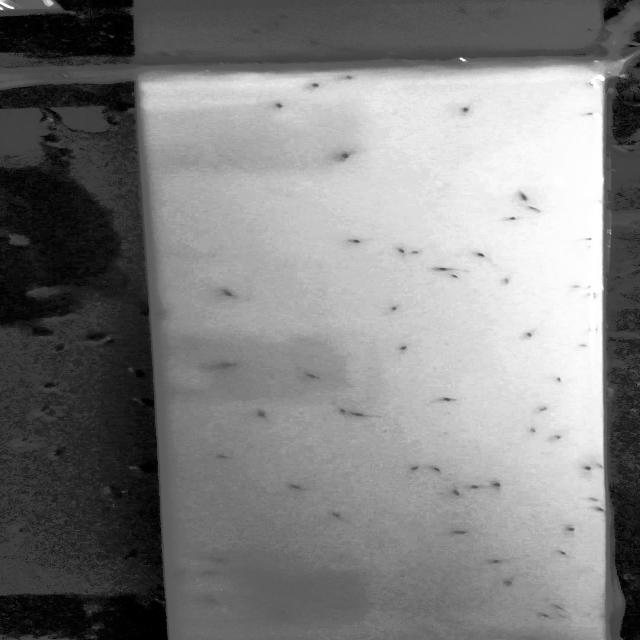shrimp: (293, 76, 330, 94), (331, 144, 359, 166), (328, 67, 362, 84), (434, 486, 474, 500), (579, 461, 604, 480), (268, 96, 294, 113), (450, 102, 480, 116), (218, 287, 246, 302), (584, 489, 608, 506), (469, 245, 492, 262), (350, 408, 375, 423), (202, 590, 220, 610), (512, 187, 533, 204), (430, 262, 455, 276), (399, 461, 424, 475), (247, 408, 275, 420), (528, 607, 552, 621), (552, 547, 576, 561), (576, 233, 600, 246), (393, 342, 417, 355), (500, 274, 519, 290), (428, 462, 449, 476), (498, 574, 519, 588), (268, 608, 297, 618), (522, 203, 548, 214), (282, 481, 308, 492), (587, 504, 613, 515), (165, 571, 191, 582), (217, 360, 242, 371), (149, 310, 171, 322), (385, 304, 407, 316), (550, 375, 574, 386), (201, 567, 225, 578), (409, 244, 425, 260), (301, 369, 322, 381), (328, 510, 349, 522), (350, 235, 370, 247), (335, 402, 350, 418), (214, 451, 234, 463), (552, 604, 572, 616), (524, 422, 540, 436), (517, 329, 534, 342), (504, 214, 524, 225), (210, 556, 232, 566), (483, 557, 507, 566), (574, 285, 590, 298), (452, 527, 468, 540), (536, 404, 553, 416), (489, 481, 507, 492), (393, 245, 408, 258), (553, 434, 569, 446), (461, 482, 482, 491), (442, 395, 460, 404), (566, 524, 579, 536), (575, 340, 587, 352), (450, 270, 461, 283)
